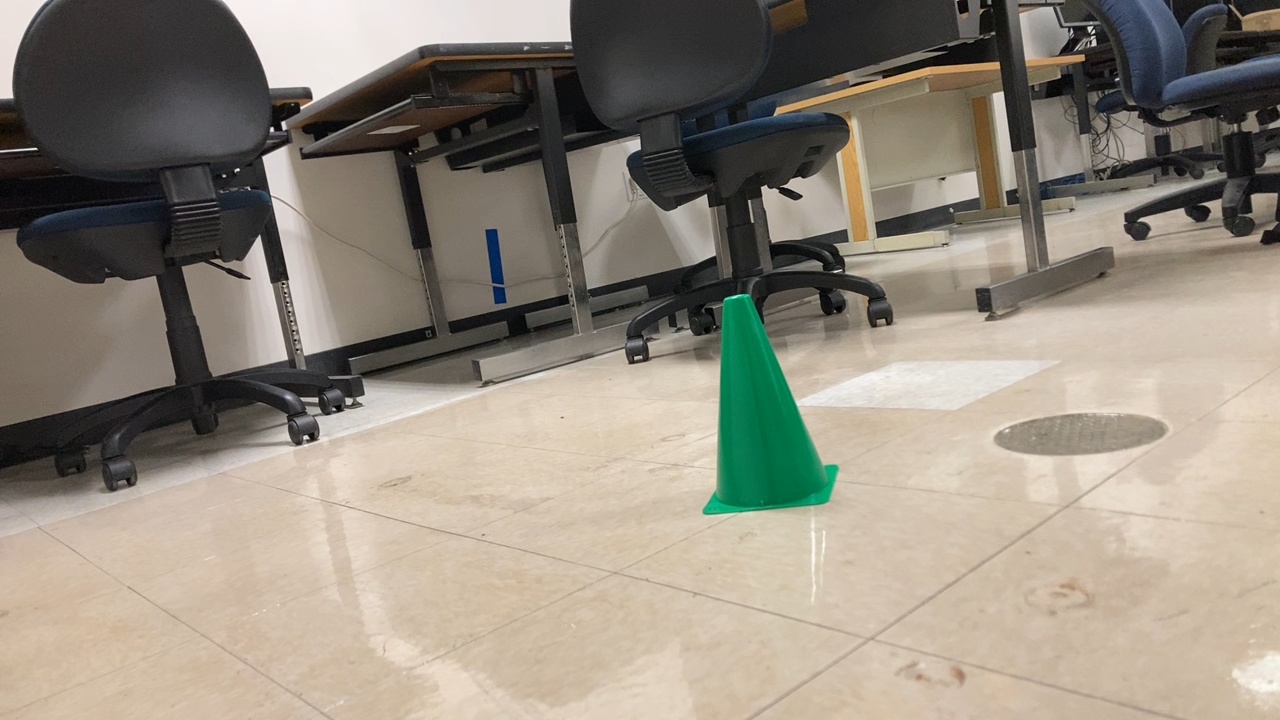green_cone: (698, 290, 841, 516)
